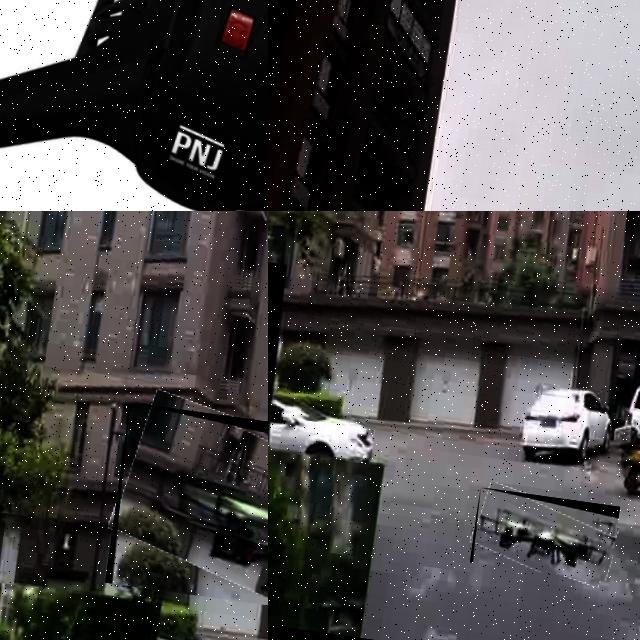0: (105, 403, 268, 634), (470, 487, 620, 582)
drone: (0, 0, 268, 211)
